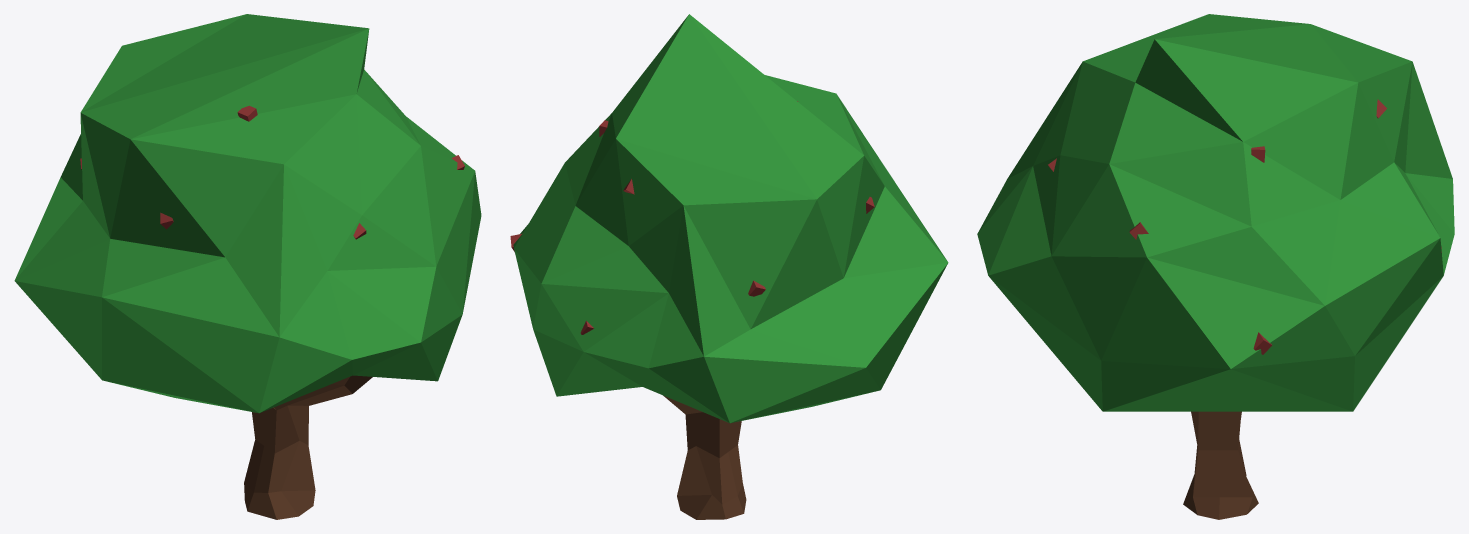
File: Tree_26_Green.fbx
3 views of the same model, side by side, from view 1: azimuth 30°, elevation 25°; view 2: azimuth 150°, elevation 25°; view 3: azimuth 270°, elevation 25° (orthographic). The views are drawn at different scales.
Parts seen in each view (by area): view 1: Tree_26_Green_Part_1, Tree_26_Green_Part_2, Tree_26_Green_Part_3; view 2: Tree_26_Green_Part_1, Tree_26_Green_Part_2, Tree_26_Green_Part_3; view 3: Tree_26_Green_Part_1, Tree_26_Green_Part_2, Tree_26_Green_Part_3.
Part boxes in pixels (x1,y1,x2,y2): Tree_26_Green_Part_1: [14, 14, 481, 413]; Tree_26_Green_Part_2: [244, 375, 372, 519]; Tree_26_Green_Part_3: [80, 105, 464, 239]; Tree_26_Green_Part_1: [513, 14, 948, 423]; Tree_26_Green_Part_2: [663, 395, 746, 519]; Tree_26_Green_Part_3: [510, 101, 874, 334]; Tree_26_Green_Part_1: [977, 14, 1454, 411]; Tree_26_Green_Part_2: [1183, 411, 1258, 519]; Tree_26_Green_Part_3: [1048, 99, 1441, 354].
Bounding box in the file's own units: 717 × 789 × 692.
